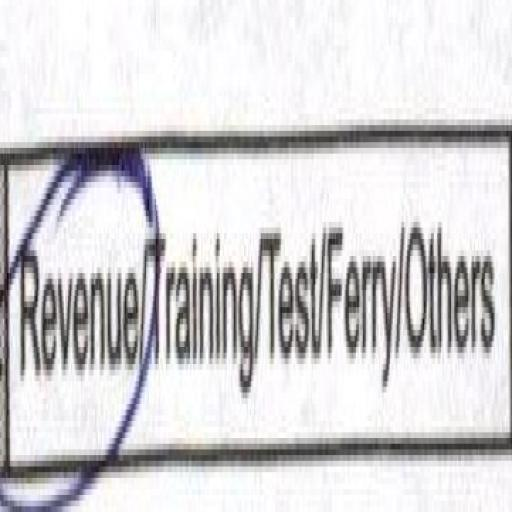check: (1, 141, 148, 512)
